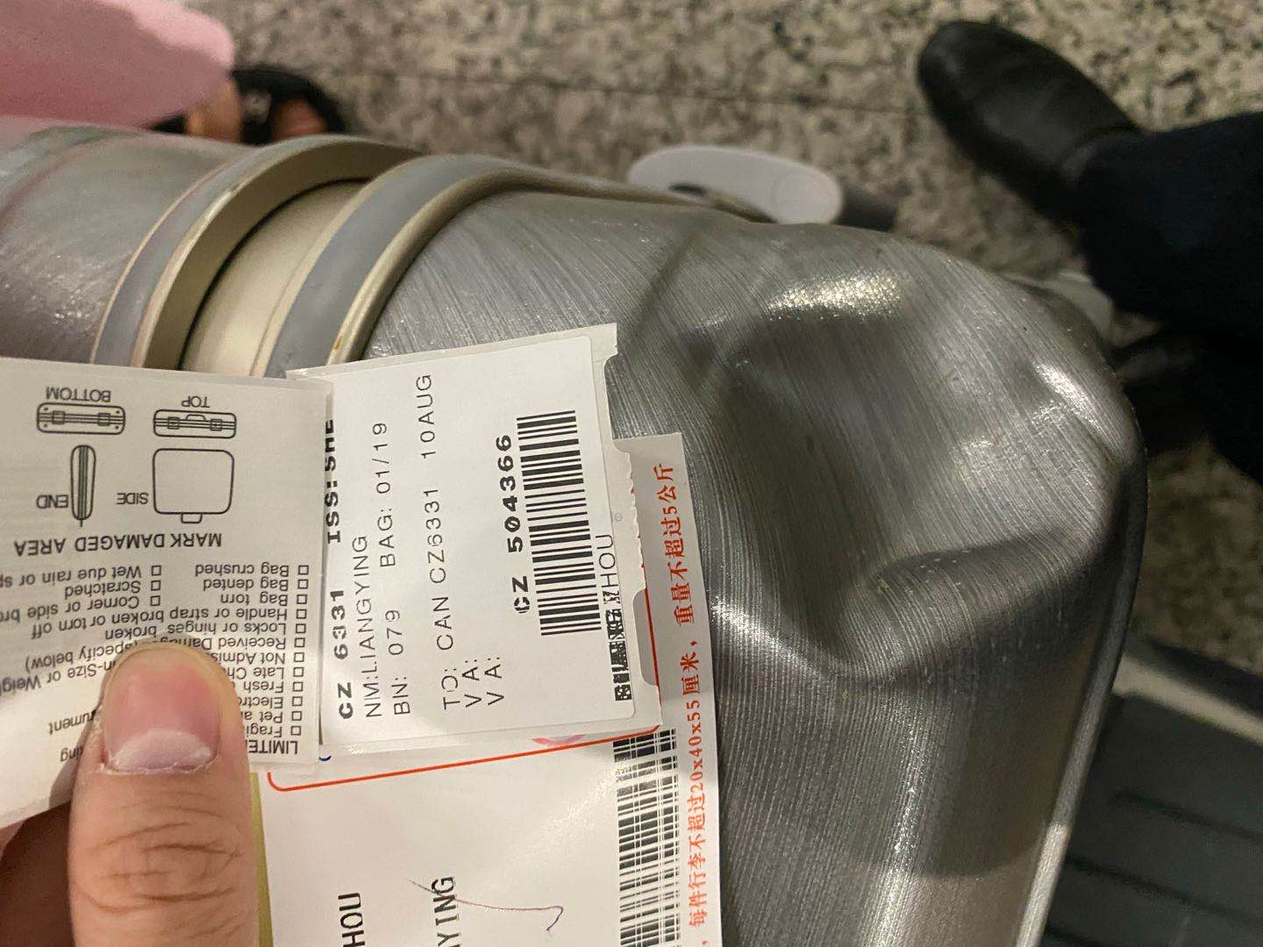rupture: (659, 244, 1117, 686)
